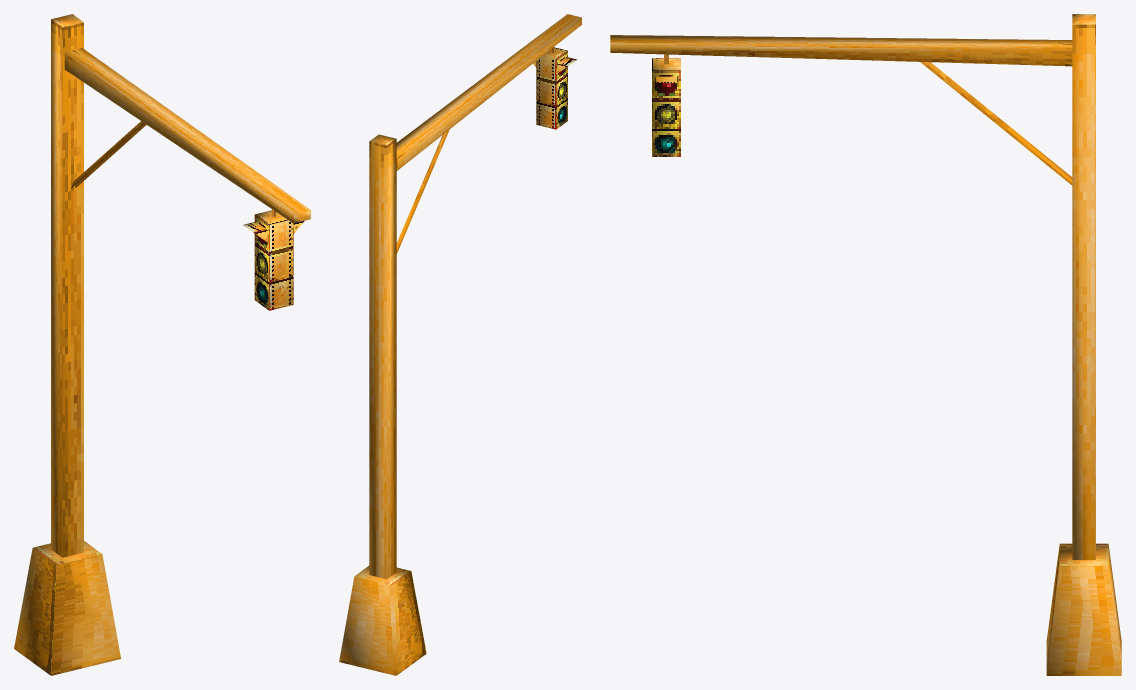
Rendered from USA - Prop - Asian Stop Light - PAStopLite.glb.
3 renders of one model, left to right at view 1: azimuth 30°, elevation 25°; view 2: azimuth 150°, elevation 25°; view 3: azimuth 270°, elevation 25°, orthographic. The views are drawn at different scales.
Visible parts, largest first — view 1: PASTOPLITE; view 2: PASTOPLITE; view 3: PASTOPLITE.
Part boxes in pixels (x1=…): PASTOPLITE: x1=14, y1=14, x2=310, y2=675; PASTOPLITE: x1=339, y1=14, x2=581, y2=675; PASTOPLITE: x1=610, y1=14, x2=1121, y2=675.
Bounding box in the file's own units: 3.53 × 30.53 × 22.13.
1 material, 1 textured.
